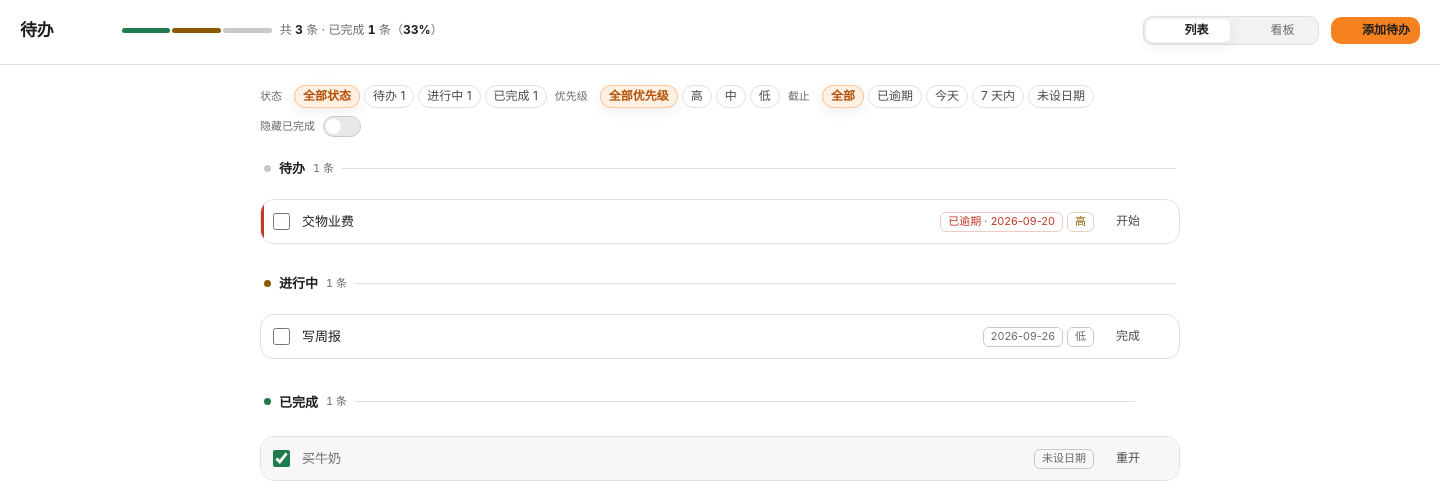
Scenario: 筛选（纯本地） › 按优先级筛选
Click the button "高". click: (697, 96)
box: [682,85,712,108]
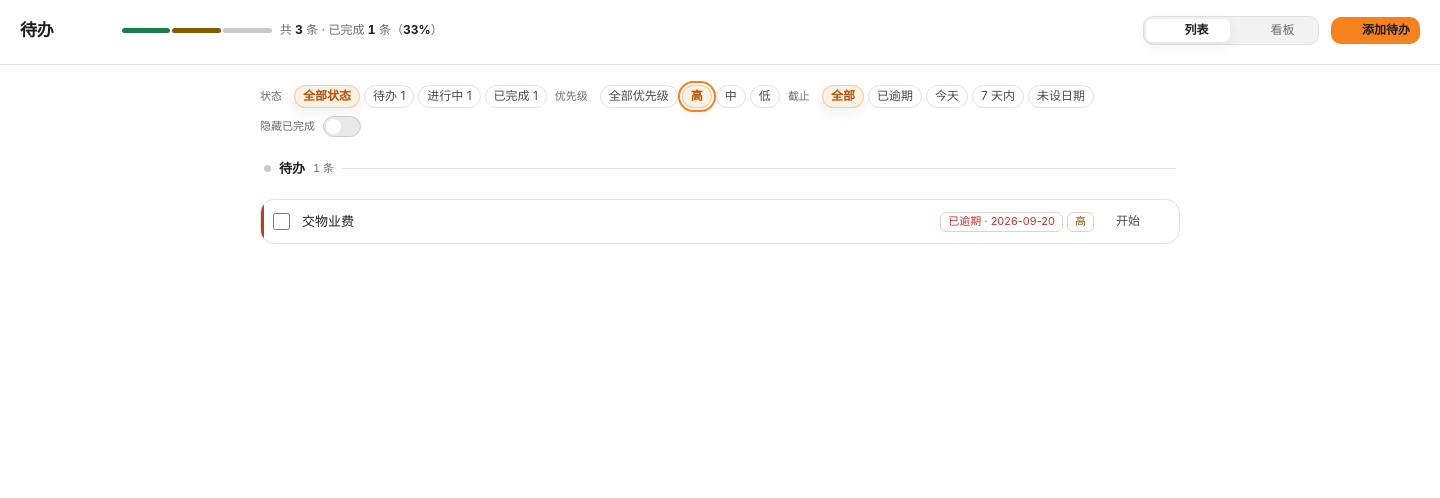
Check: the text "交物业费" is shown, box [302,212,928,231]
Check: the number of elements with class "taskrow" is 1, box [261,200,1179,243]
